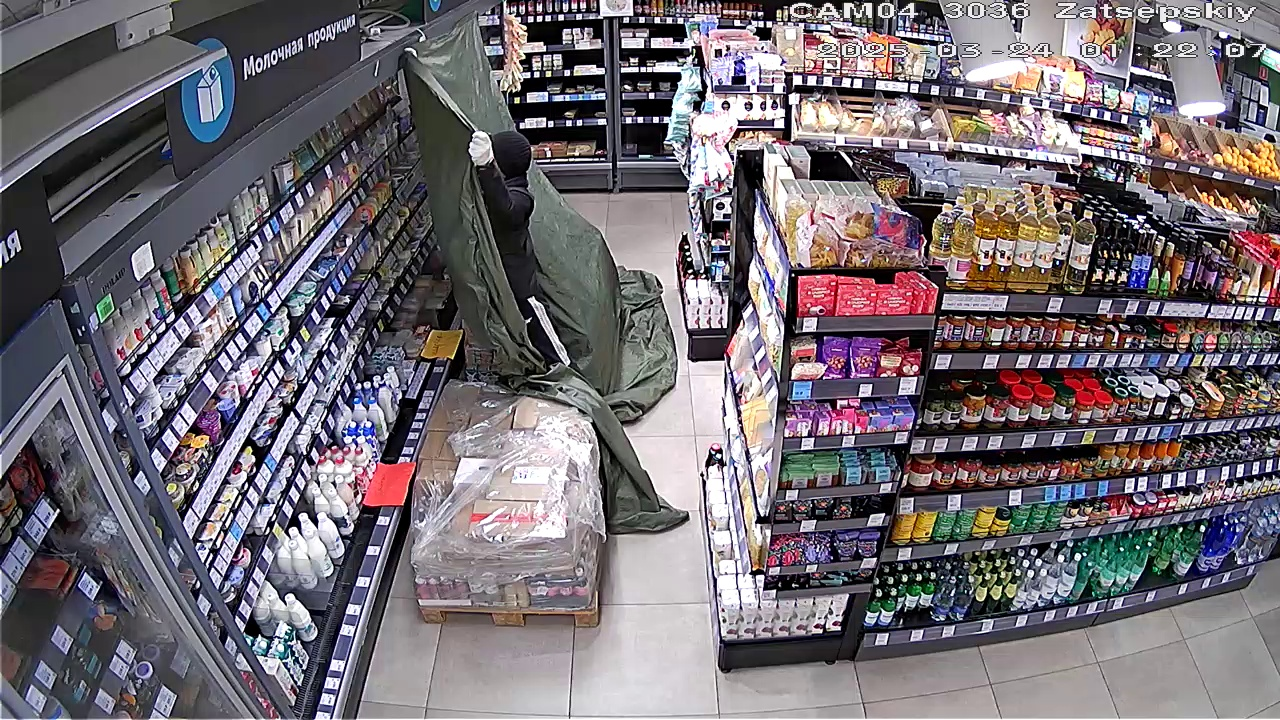Human: (470, 120, 576, 366)
pallet: (417, 368, 600, 626)
